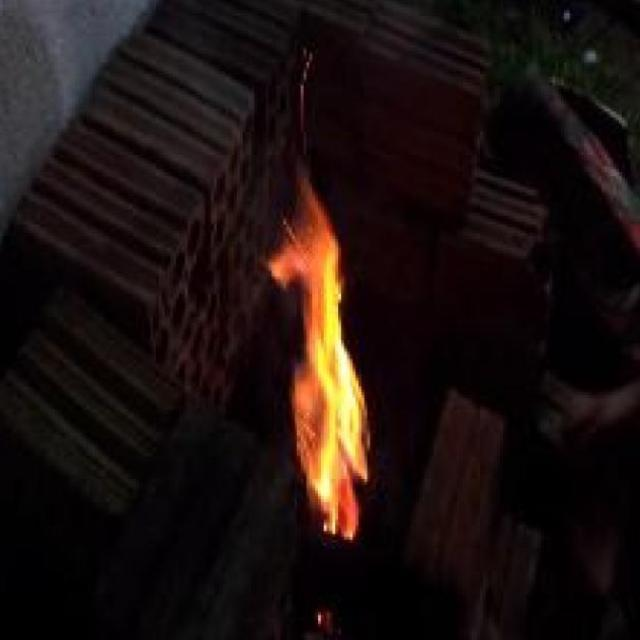smoke: (264, 170, 378, 542)
